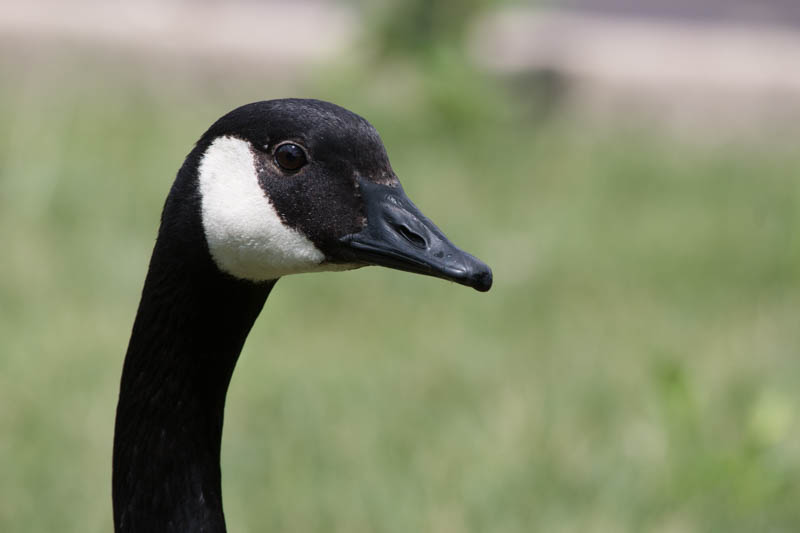goose-head: (160, 99, 493, 294)
